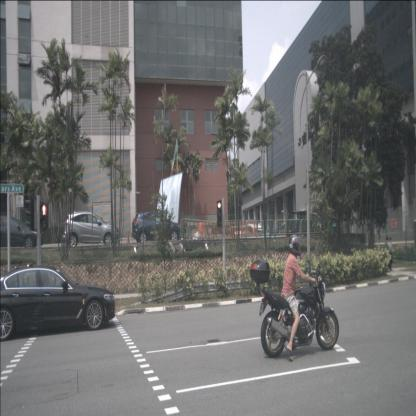human-pedestrian-adult: (388, 237, 394, 272), (385, 236, 390, 270)
vehicle-car: (0, 266, 115, 341), (62, 212, 119, 247), (132, 212, 182, 243), (0, 216, 44, 249), (246, 219, 262, 233)
vehicle-motorcycle: (250, 235, 339, 362)
